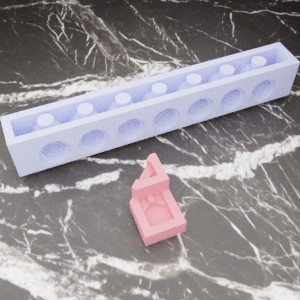lego: (0, 42, 299, 176), (129, 152, 186, 246)
